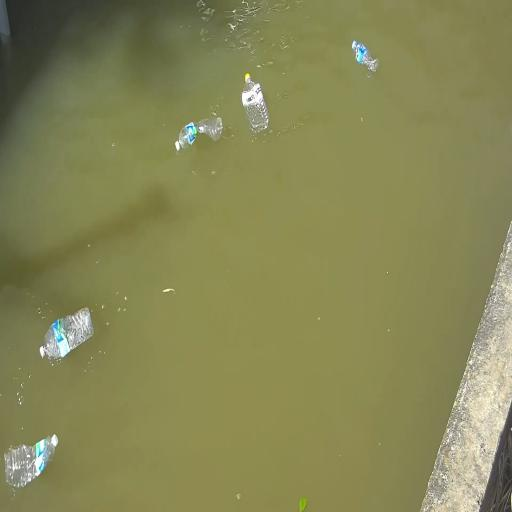plastic: (40, 307, 94, 360), (5, 435, 58, 487), (242, 74, 268, 133), (175, 118, 222, 150), (352, 41, 378, 72)
